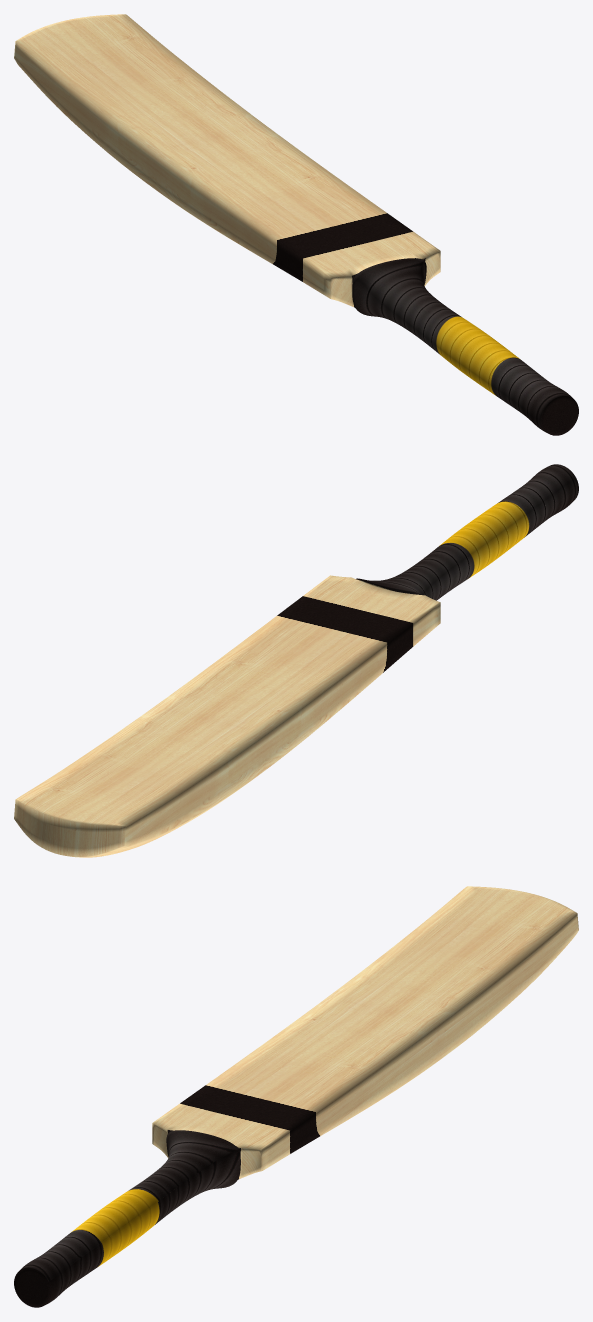
Rendered from bat.gltf.
3 renders of one model, top to bottom at view 1: azimuth 30°, elevation 25°; view 2: azimuth 150°, elevation 25°; view 3: azimuth 330°, elevation 25°, orthographic.
Visible parts, largest first — view 1: 11716_bat_v1_l3; view 2: 11716_bat_v1_l3; view 3: 11716_bat_v1_l3.
Part boxes in pixels (x1,y1,x2,y2): 11716_bat_v1_l3: (14,14,578,435); 11716_bat_v1_l3: (14,464,578,857); 11716_bat_v1_l3: (14,886,578,1307).
Bounding box in the file's own units: 0.5116 × 0.3446 × 4.02.
Materials: 1 (1 with a texture image).
